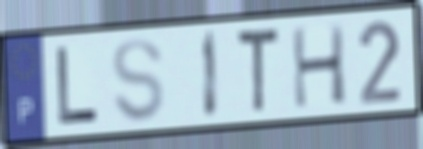2: (356, 18, 403, 107)
H: (289, 20, 349, 112)
I: (201, 27, 221, 121)
L: (55, 43, 101, 129)
S: (110, 35, 168, 126)
T: (234, 24, 282, 117)
